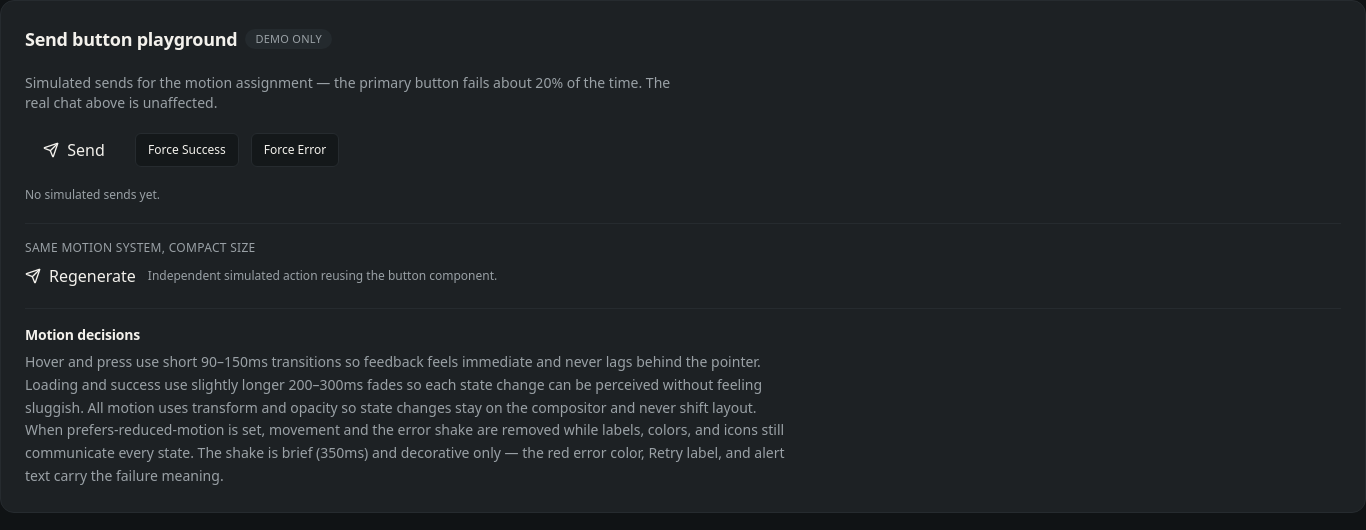
Test: SendButtonDemo › takes the compact button's failure branch without touching the primary
The image size is (1366, 530).
Step 1. Click the button with aria-label "Run the compact simulated action" → (80, 276), box [25,264,136,288]
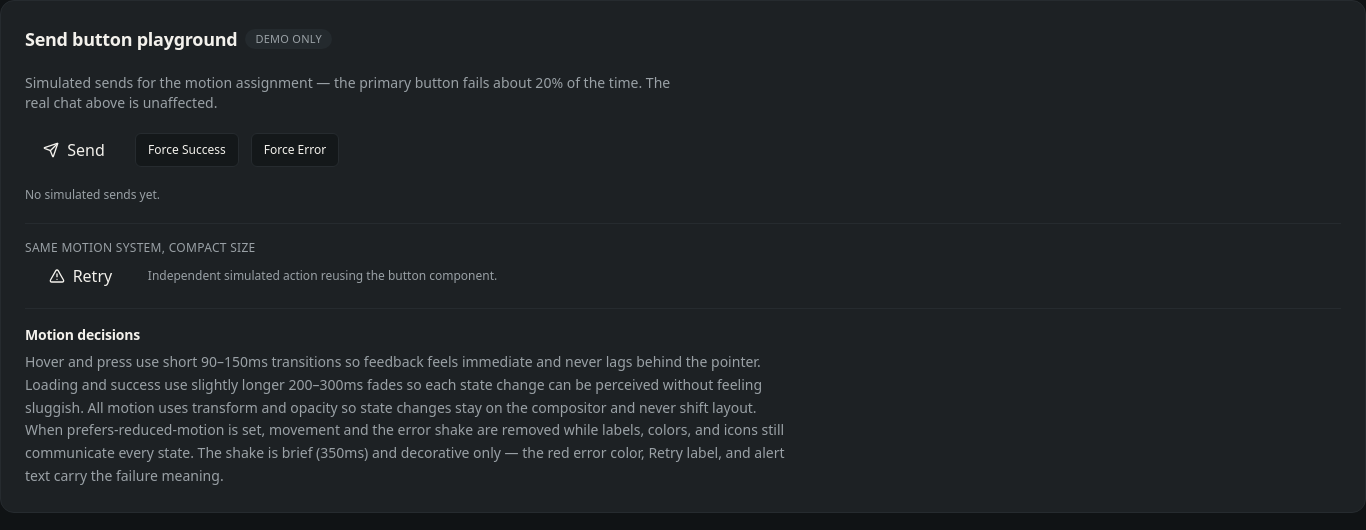
Expected: the button with aria-label "Run a simulated send" is enabled, [25,138,123,162]
Expected: the button with aria-label "Compact action failed. Activate to retry." is shown, [25,264,136,288]
